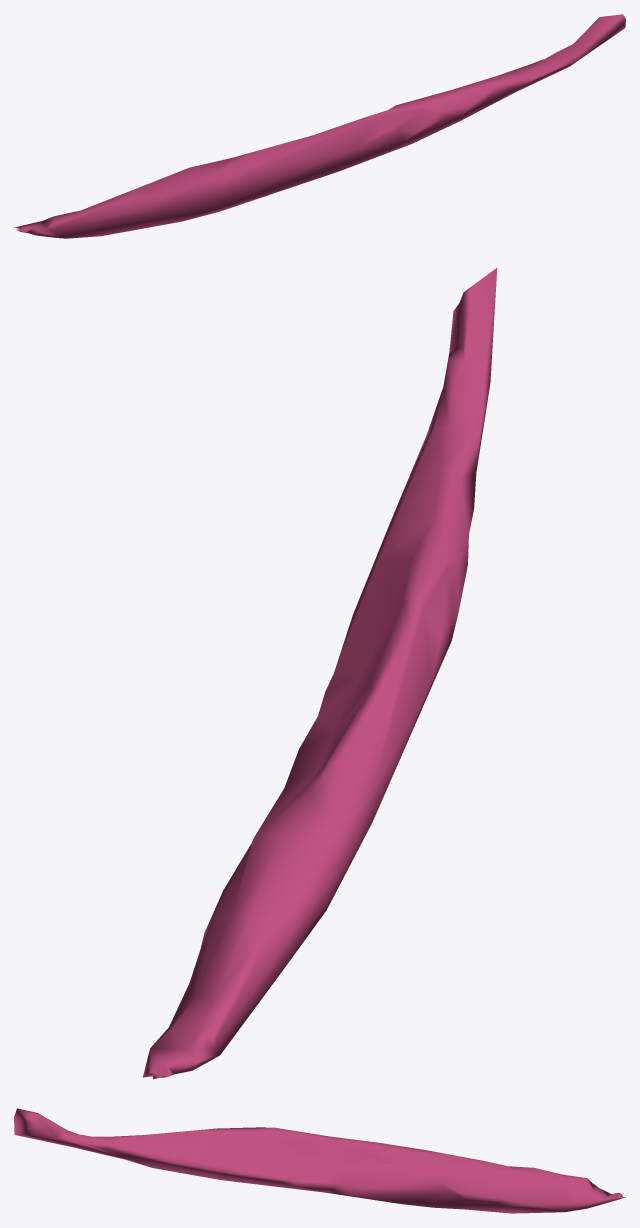
The picture shows the model from 3 angles, top to bottom: view 1: azimuth 90°, elevation 25°; view 2: azimuth 150°, elevation 25°; view 3: azimuth 270°, elevation 25°; orthographic projection. The views are drawn at different scales.
Visible parts, largest first — view 1: 左侧小指短屈肌; view 2: 左侧小指短屈肌; view 3: 左侧小指短屈肌.
Boxes of the visible parts, <box> form: 左侧小指短屈肌: <box>14,14,625,238</box>; 左侧小指短屈肌: <box>142,268,497,1079</box>; 左侧小指短屈肌: <box>14,1108,625,1213</box>.
Size of the model in its own units: 0.0274 by 0.0269 by 0.0912.
